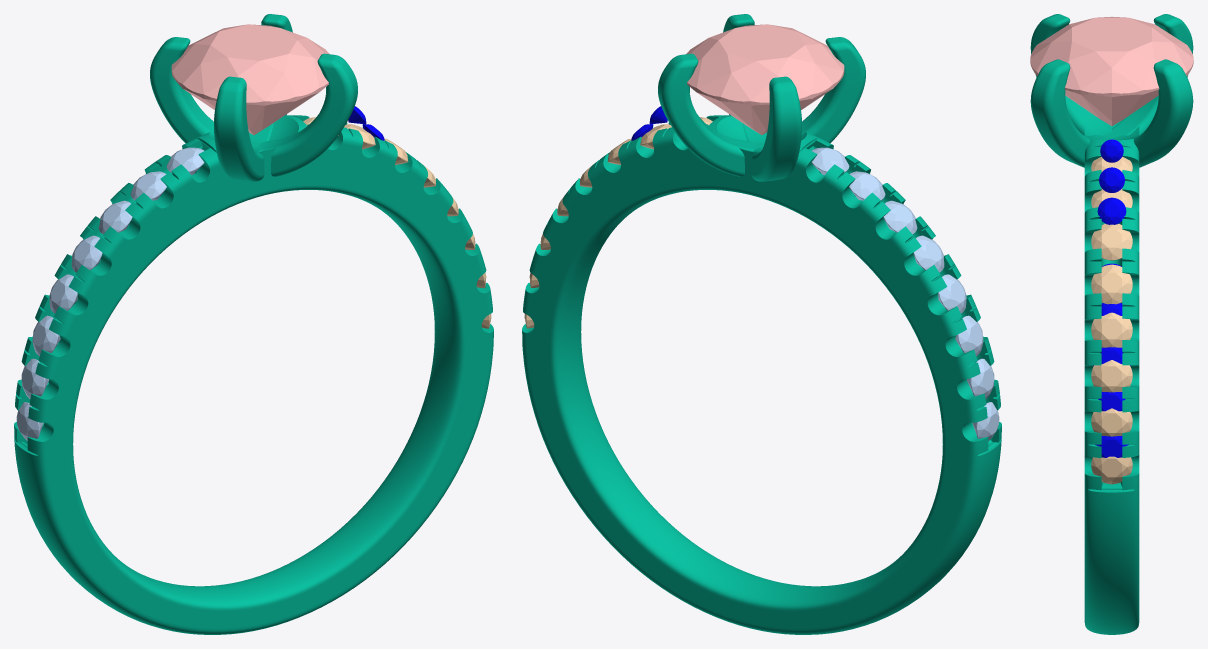
The picture shows the model from 3 angles, left to right: view 1: azimuth 30°, elevation 25°; view 2: azimuth 150°, elevation 25°; view 3: azimuth 270°, elevation 25°; orthographic projection.
Parts seen in each view (by area): view 1: JTC 14864(front).3dm, Diamond_Round (×8); view 2: JTC 14864(front).3dm, Diamond_Round (×8); view 3: JTC 14864(front).3dm, Diamond_Round (×15).
Boxes of the visible parts, x1,y1,x2,y2 form: JTC 14864(front).3dm: (14,14,493,634); Diamond_Round (×8): (21,24,329,398); JTC 14864(front).3dm: (522,14,1001,634); Diamond_Round (×8): (686,24,994,398); JTC 14864(front).3dm: (1030,14,1193,634); Diamond_Round (×15): (1030,16,1193,484).
Size of the model in its own units: 2.52 by 3.01 by 0.7742.
